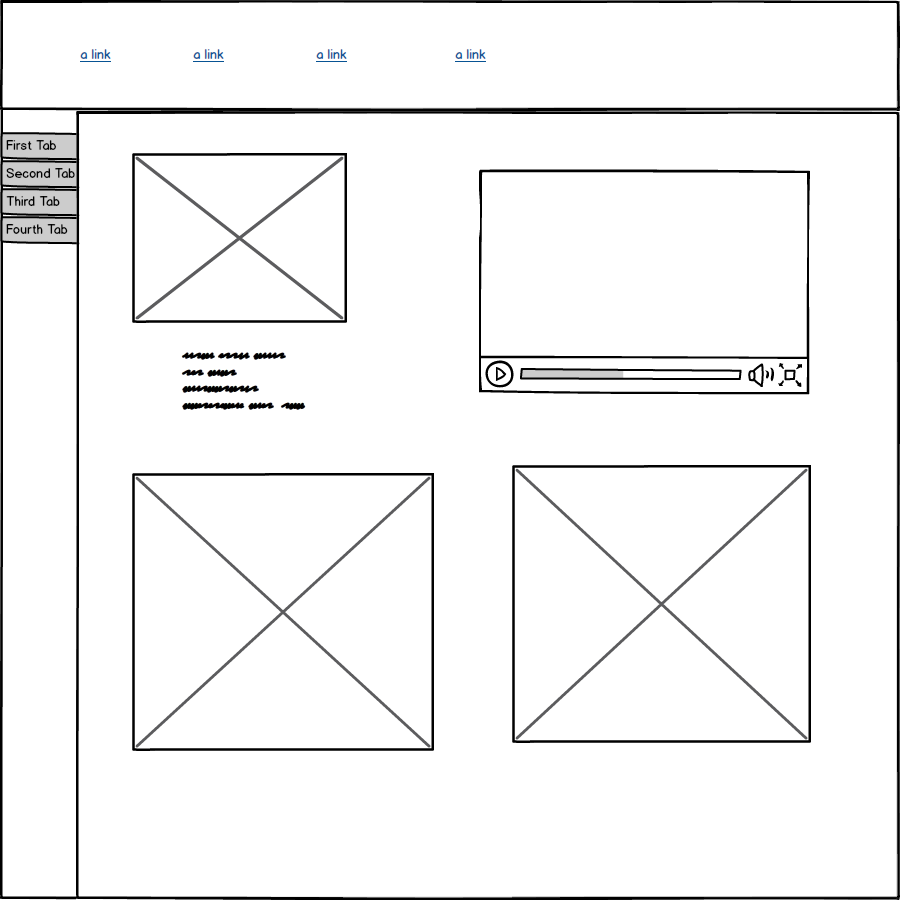image: (508, 459, 818, 751), (128, 470, 441, 756), (128, 145, 350, 329)
navlink: (311, 32, 357, 78), (61, 38, 127, 70), (444, 40, 494, 74), (185, 40, 234, 73)
p: (182, 345, 315, 418)
sidebar: (2, 126, 83, 251)
video: (476, 160, 816, 399)
